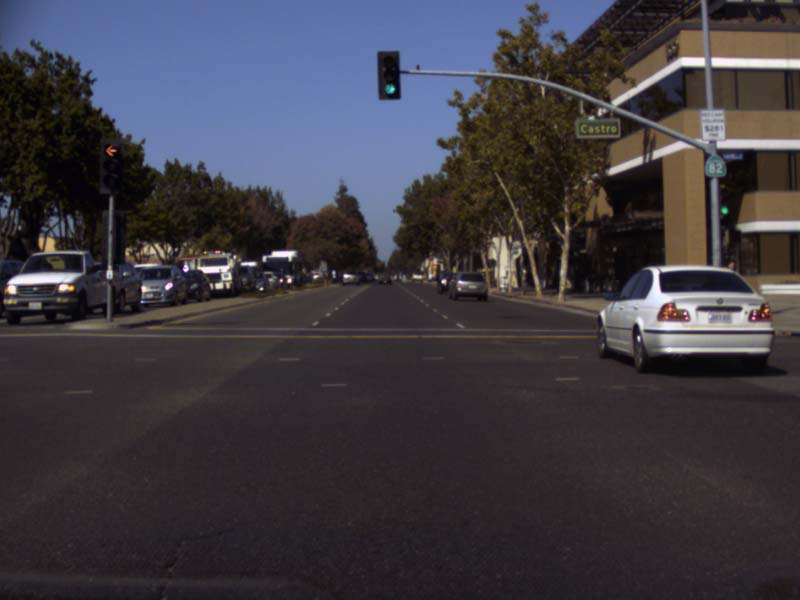Green: (377, 51, 400, 98), (720, 185, 730, 223)
Red: (100, 138, 121, 193)
